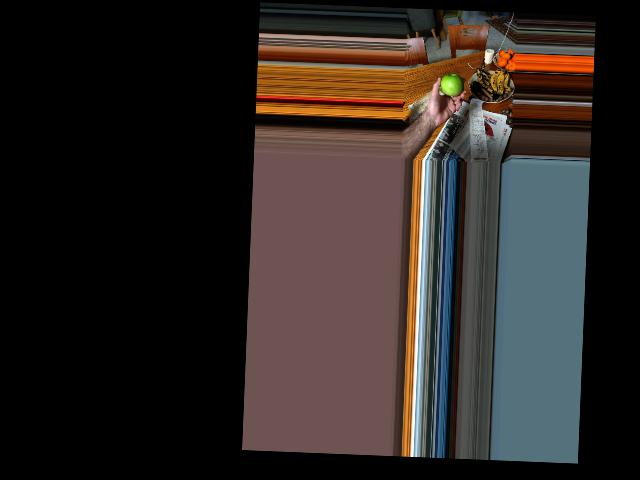apple: (438, 70, 464, 98)
